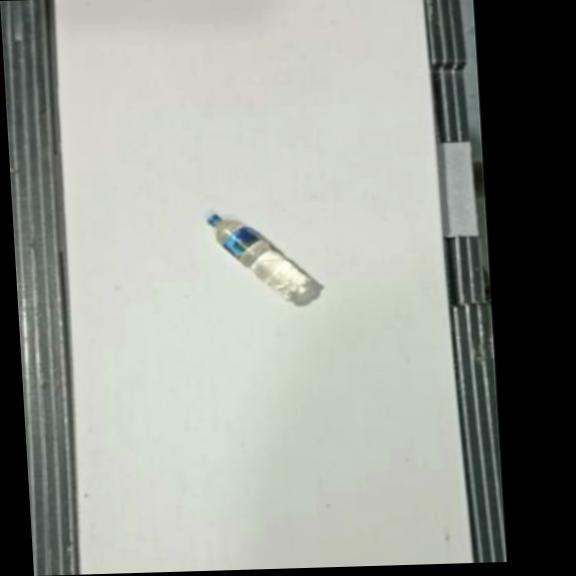Plastik: (203, 208, 316, 302)
